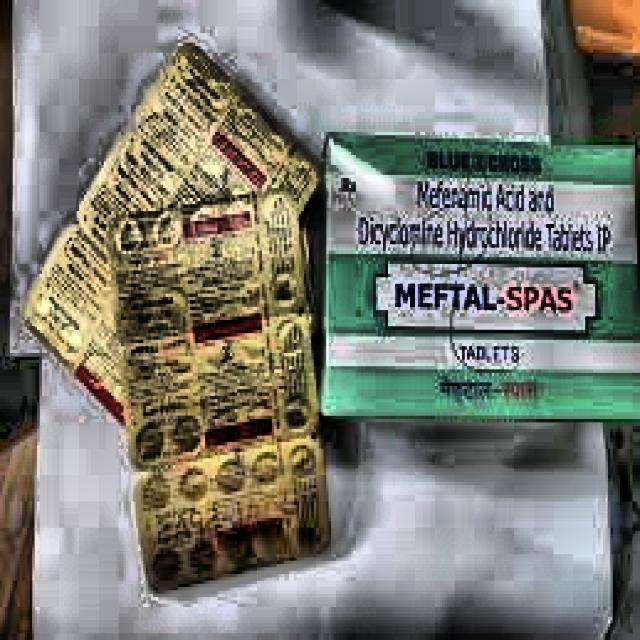Meftal: (378, 253, 602, 343)
